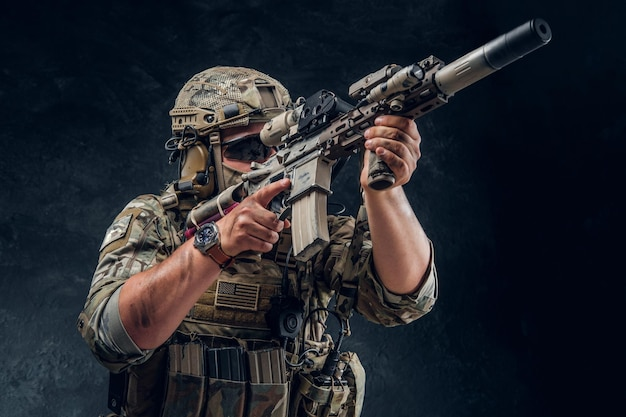gun: (183, 20, 553, 260)
